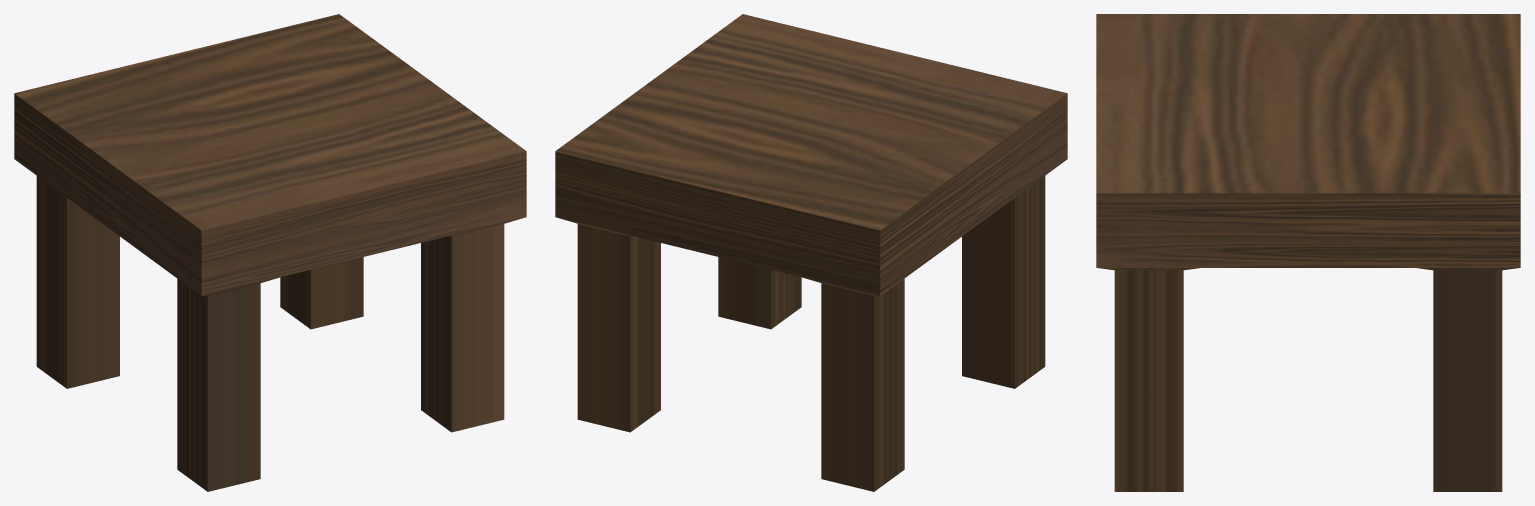
The model's file is tukue.fbx.
3 renders of one model, left to right at view 1: azimuth 30°, elevation 25°; view 2: azimuth 150°, elevation 25°; view 3: azimuth 270°, elevation 25°, orthographic. The views are drawn at different scales.
Visible parts, largest first — view 1: pCube1; view 2: pCube1; view 3: pCube1.
Part boxes in pixels (x1,y1,x2,y2): pCube1: (14, 14, 526, 491); pCube1: (555, 14, 1067, 491); pCube1: (1096, 14, 1520, 491).
Size of the model in its own units: 88.77 by 70.69 by 88.77.
1 material, 1 textured.
